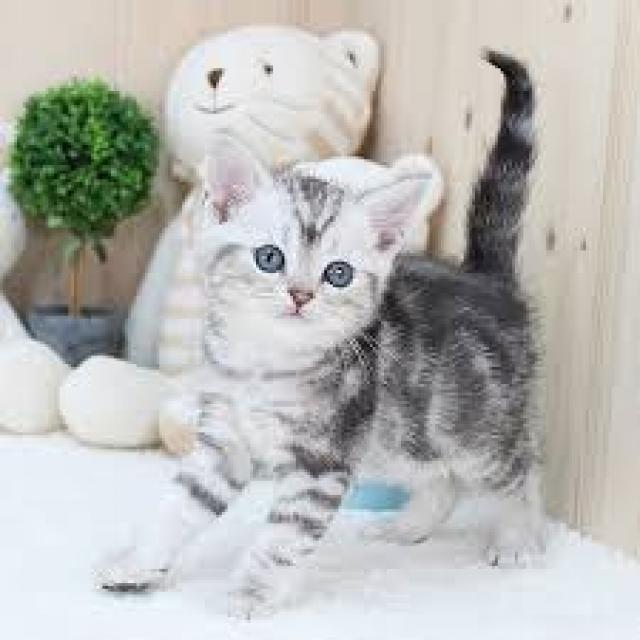cat-face: (152, 127, 442, 386)
